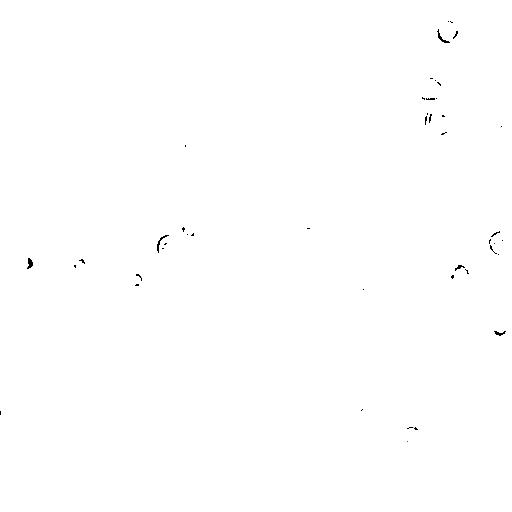micro-algae: (205, 85, 296, 175), (83, 126, 157, 193), (142, 61, 207, 123), (220, 103, 278, 159), (62, 303, 101, 341), (383, 279, 422, 317), (90, 264, 129, 301), (40, 480, 73, 510), (423, 107, 455, 137), (165, 421, 197, 446), (447, 260, 471, 293), (55, 102, 85, 128), (144, 254, 174, 279), (486, 229, 511, 259), (155, 234, 183, 260), (315, 293, 341, 321), (435, 21, 461, 45), (417, 76, 443, 99), (363, 225, 388, 248), (135, 183, 157, 209), (285, 19, 308, 43), (198, 367, 221, 391), (355, 269, 376, 293), (367, 35, 390, 56), (11, 253, 35, 273), (168, 133, 189, 155), (345, 316, 364, 339), (401, 425, 423, 444), (256, 0, 287, 13), (299, 223, 319, 243), (181, 219, 201, 238), (493, 6, 511, 27), (491, 317, 509, 337), (125, 270, 143, 287), (71, 253, 87, 272), (300, 245, 319, 261), (205, 283, 220, 303), (499, 115, 511, 139), (181, 501, 207, 512), (358, 403, 375, 417)
